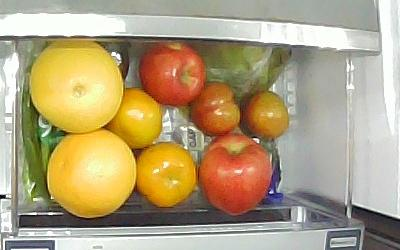apple: (198, 133, 271, 216), (139, 43, 206, 106)
grapefruit: (28, 39, 124, 136), (46, 128, 137, 219)
persimmon: (134, 143, 196, 207), (110, 87, 162, 148)
prune: (189, 81, 240, 136), (241, 90, 290, 142)
